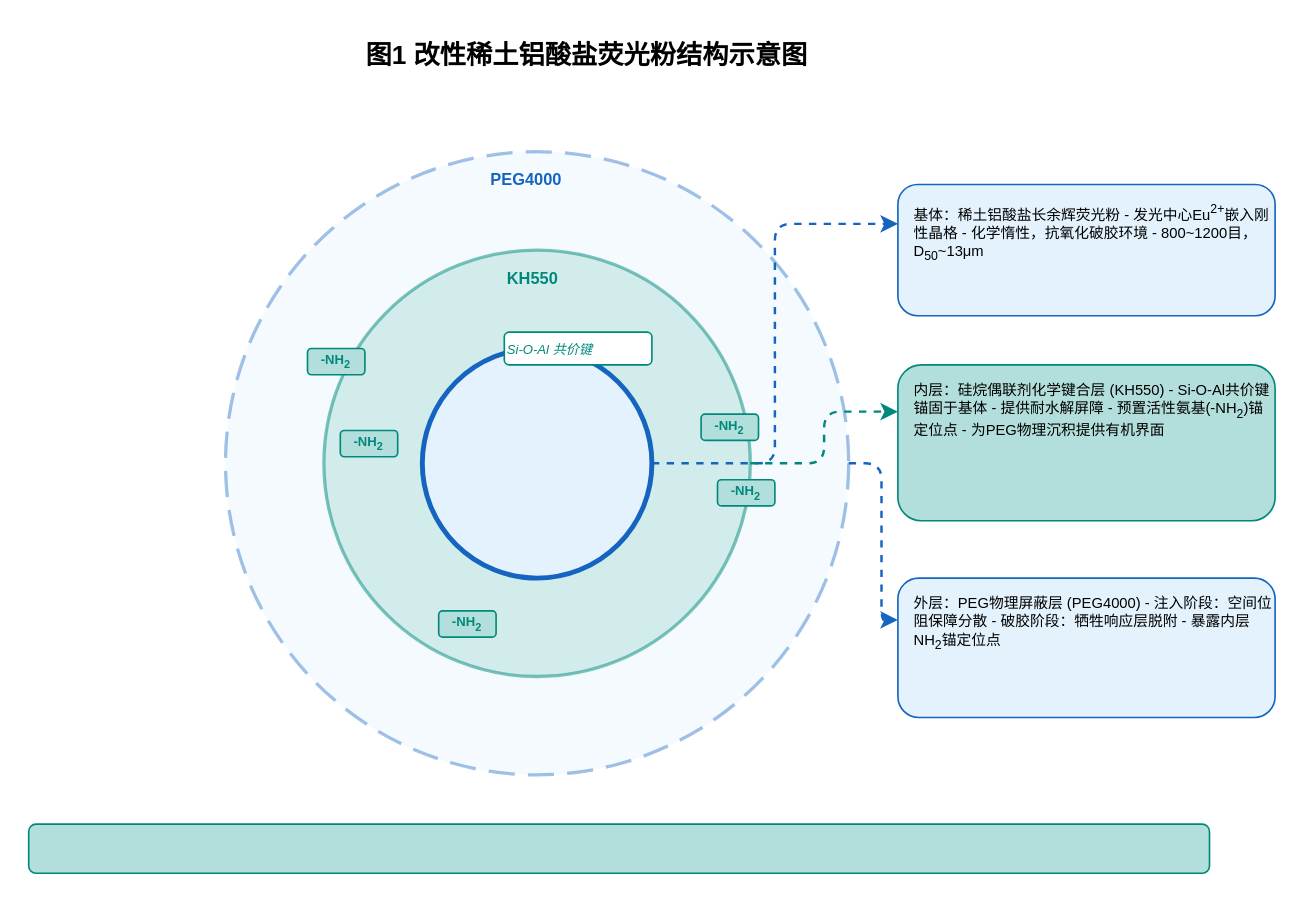
Some shapes in this 1304 by 902 pixel diagram are drawn without their labels. The shapes that lost their labels are listed below. From the top down, each one's box as (x1, y1, x2, y2) in pixels, then its label:
(419, 345, 654, 580): SrAl 2 O 4 :Eu 2+ ,Dy 3+ 荧光粉基体
(27, 822, 1210, 873): 功能切换机制：注入阶段(分散态) PEG外层屏蔽 → 关井破胶 PEG氧化脱附 → 暴露KH550活性-NH 2 → 锚定于砂岩壁面(锚定态)
